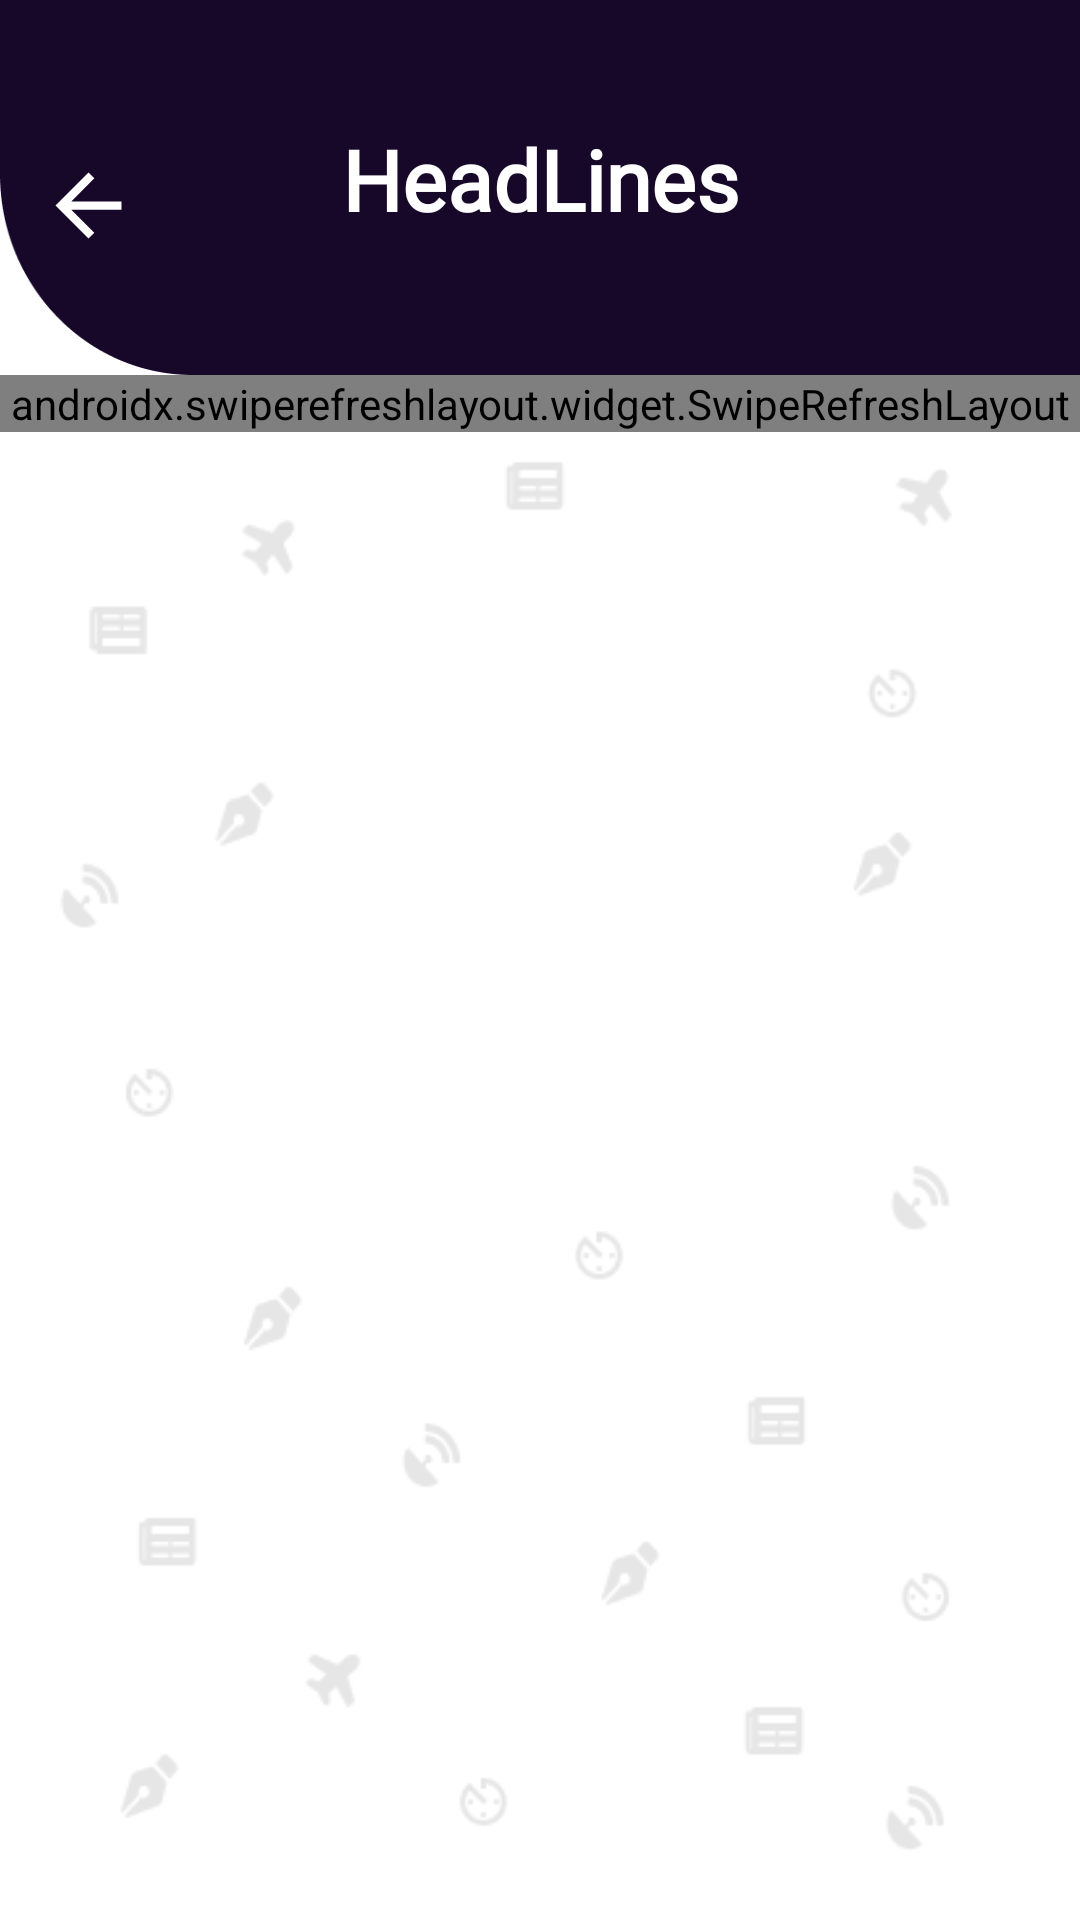

Icons on this 1080×1920 Android screen, each with the point to tap as (x=x, y=y):
arrow: (x=88, y=205)
